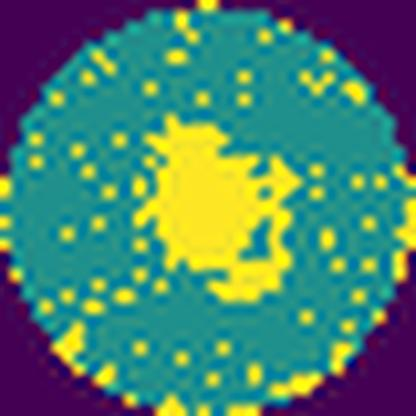Center: (137, 116, 303, 306)
